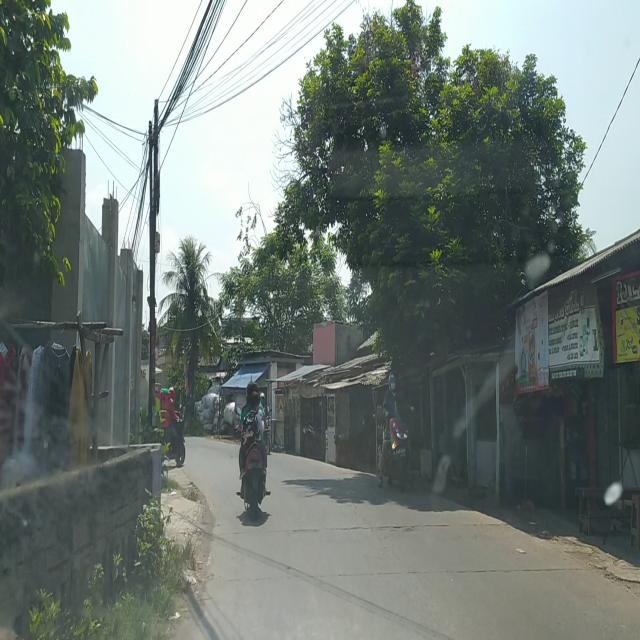Sewer Cover: (281, 519, 508, 538), (337, 565, 597, 580)
